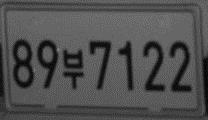1: (116, 39, 135, 92)
2: (141, 39, 167, 91), (168, 39, 192, 92)
7: (88, 39, 112, 90)
8: (10, 38, 34, 88)
9: (35, 39, 59, 89)
부: (61, 48, 84, 90)
